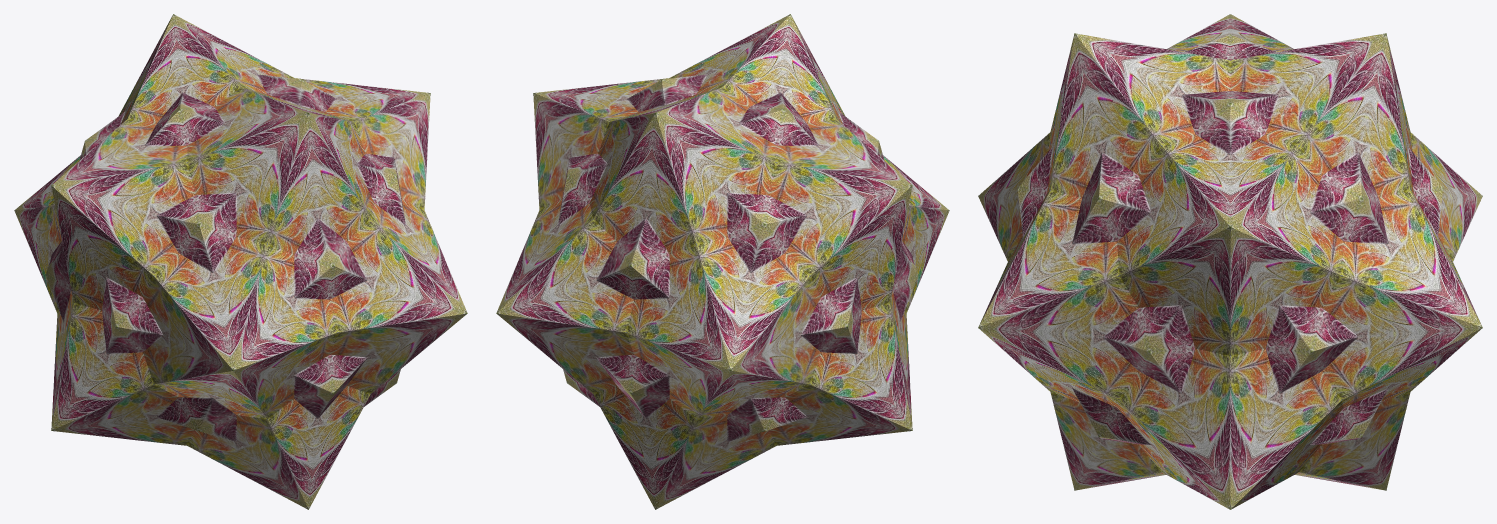
The model's file is GreatDitrigonalDodecacronicHexecontahedron4.obj.
The picture shows the model from 3 angles, left to right: view 1: azimuth 30°, elevation 25°; view 2: azimuth 150°, elevation 25°; view 3: azimuth 270°, elevation 25°; orthographic projection. The views are drawn at different scales.
Bounding box in the file's own units: 2.35 × 2.35 × 2.35.
Materials: 1 (1 with a texture image).
